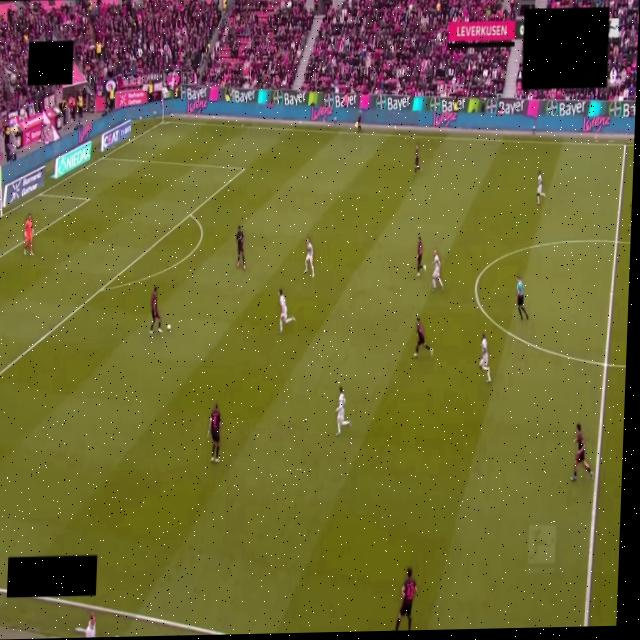ball: (167, 324, 171, 329)
player: (395, 567, 417, 630), (395, 568, 416, 630), (208, 404, 221, 461), (414, 319, 433, 356), (279, 290, 295, 332), (479, 335, 491, 383), (337, 394, 350, 435), (150, 286, 161, 332), (516, 277, 528, 318), (432, 250, 443, 290), (417, 237, 426, 276), (575, 425, 584, 464), (304, 239, 313, 276), (236, 226, 244, 266), (538, 173, 545, 203), (414, 146, 421, 174), (25, 218, 32, 238)
referee: (516, 276, 528, 320)
